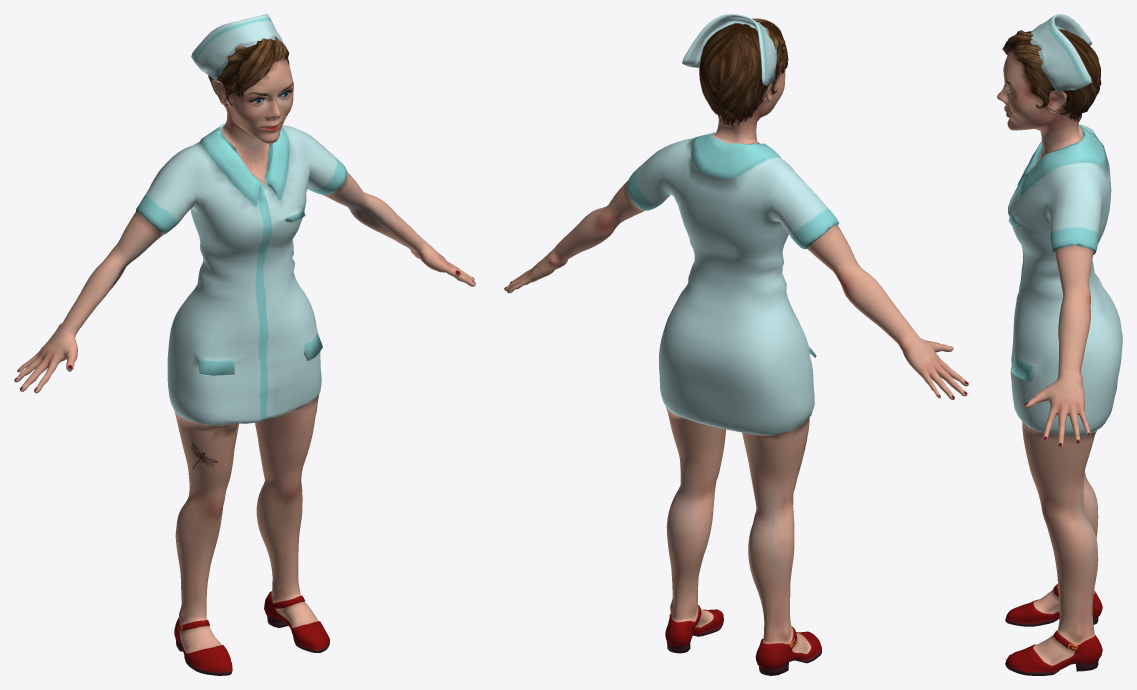
File: game-ready_nurse.glb
3 views of the same model, side by side, from view 1: azimuth 30°, elevation 25°; view 2: azimuth 150°, elevation 25°; view 3: azimuth 270°, elevation 25° (orthographic).
Parts seen in each view (by area): view 1: SISTER_RETOP_SISTER_RETOPSISTER_EYE_RETOP0_SISTER_RETOP_SIST; view 2: SISTER_RETOP_SISTER_RETOPSISTER_EYE_RETOP0_SISTER_RETOP_SIST; view 3: SISTER_RETOP_SISTER_RETOPSISTER_EYE_RETOP0_SISTER_RETOP_SIST.
Part boxes in pixels (x1=…): SISTER_RETOP_SISTER_RETOPSISTER_EYE_RETOP0_SISTER_RETOP_SIST: x1=14, y1=14, x2=475, y2=675; SISTER_RETOP_SISTER_RETOPSISTER_EYE_RETOP0_SISTER_RETOP_SIST: x1=504, y1=14, x2=968, y2=675; SISTER_RETOP_SISTER_RETOPSISTER_EYE_RETOP0_SISTER_RETOP_SIST: x1=997, y1=14, x2=1122, y2=675.
Size of the model in its own units: 1.36 by 1.8 by 0.3284.
2 materials, 2 textured.
